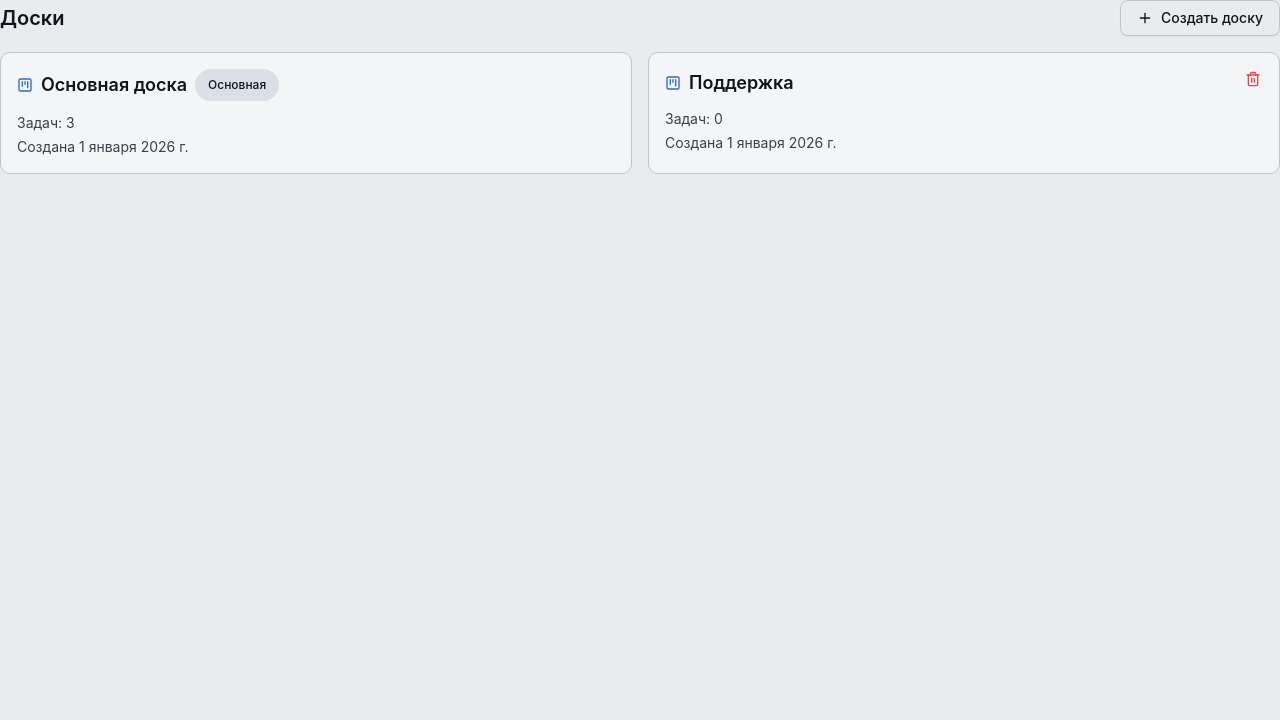
Test: ProjectBoardsSection › сохраняет отказ удаления и обновляет счётчик при появлении задач
The image size is (1280, 720).
Click the button named "Удалить доску «Поддержка»": click(1253, 79) [1235,61,1271,97]
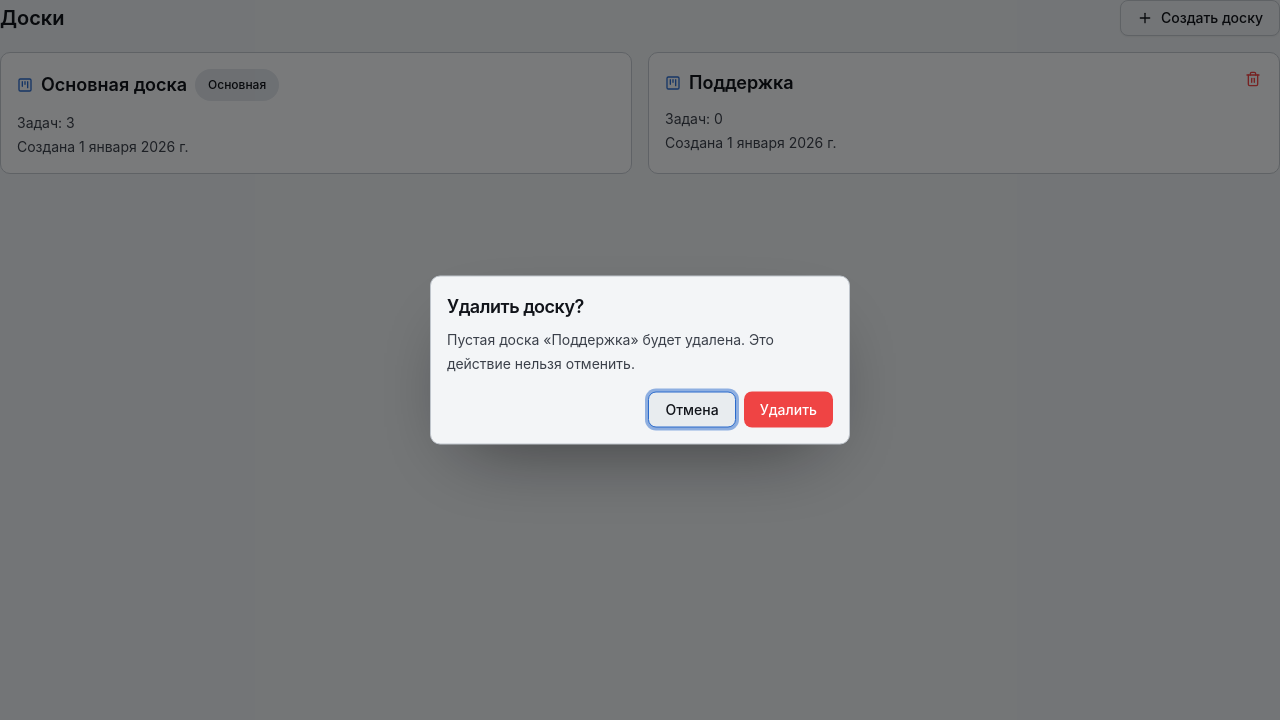
Click the button "Удалить": click(788, 410) [744,392,833,428]
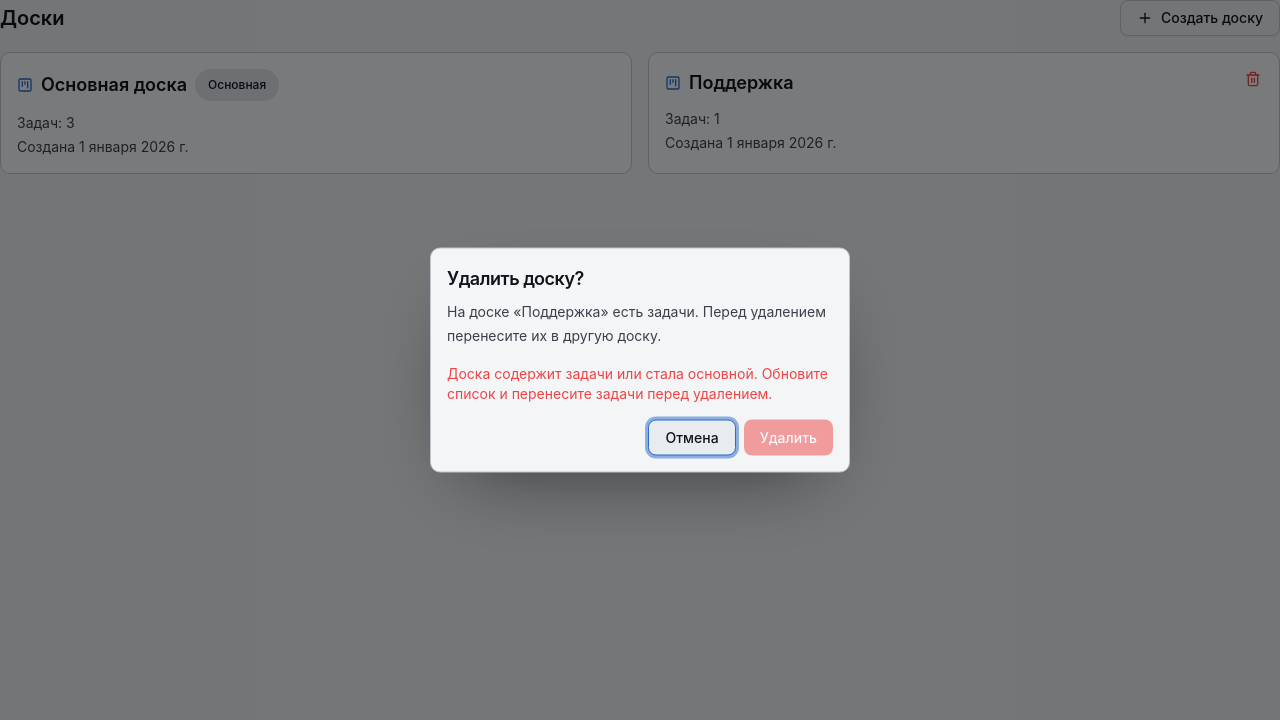
Now the dialog is shown, box [430,248,850,472]
Now the message is shown, box [447,364,833,404]
Now the button "Удалить" is disabled, box [744,420,833,456]
